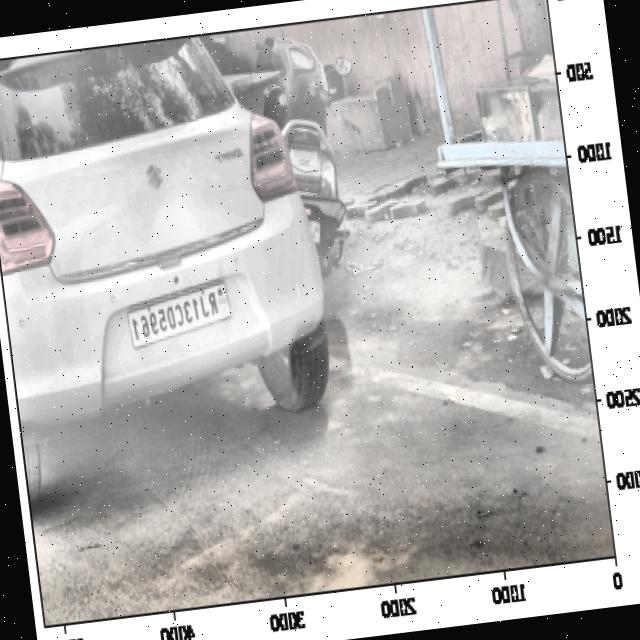license_plate: (122, 285, 228, 353)
